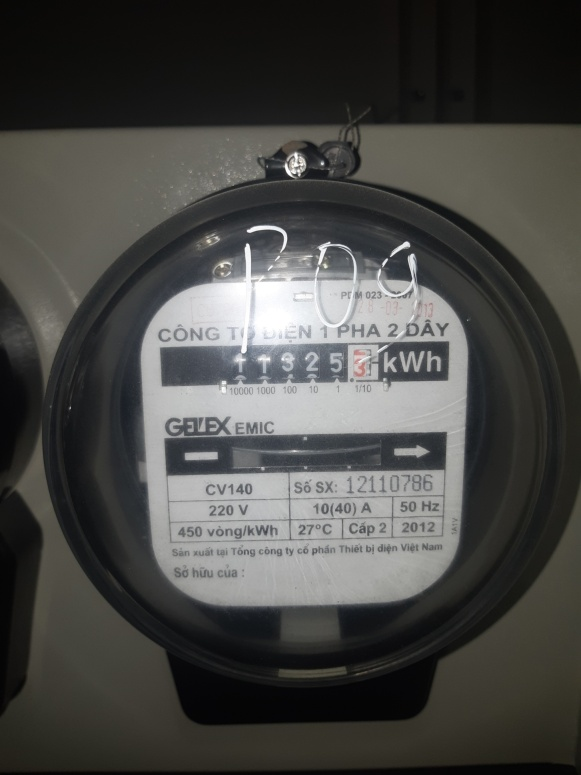counter: (158, 344, 456, 382)
electricity_meter: (47, 181, 579, 672)
